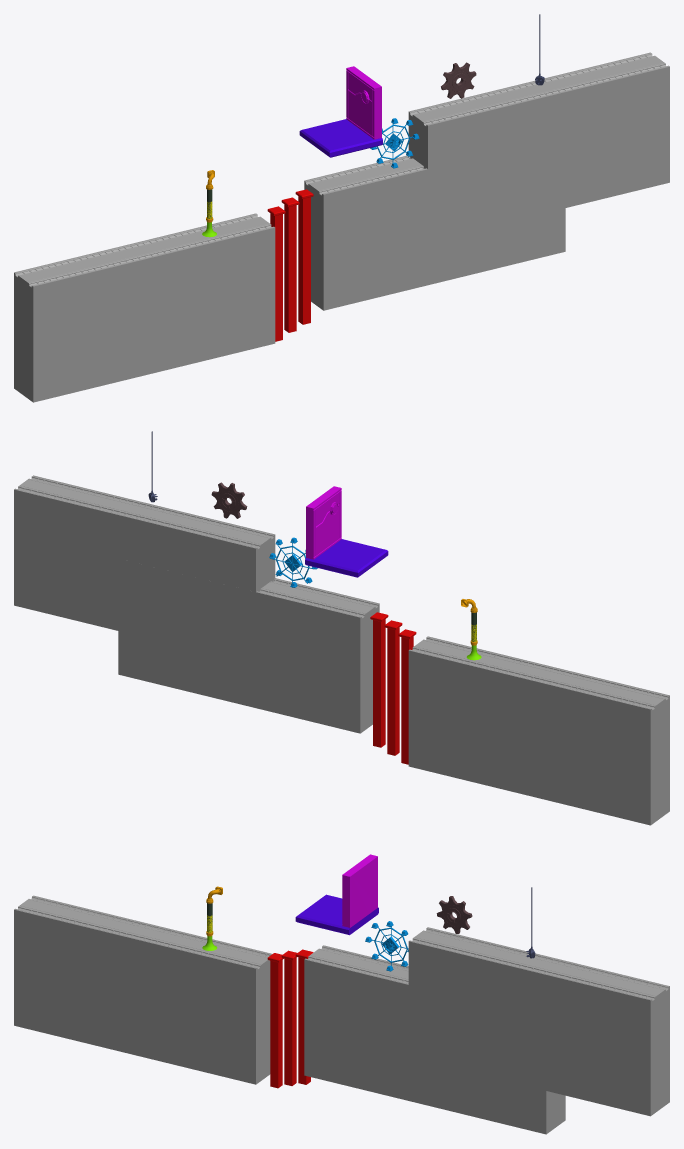
Rendered from GDT_Level.fbx.
3 renders of one model, top to bottom at view 1: azimuth 30°, elevation 25°; view 2: azimuth 150°, elevation 25°; view 3: azimuth 330°, elevation 25°, orthographic.
Visible parts, largest first — view 1: Ground2, Ground, Ground1, Wall:Wall, AirPlatform, Platform2, Platform1, Platform, Gear; view 2: Ground2, Ground, Ground1, Wall:Wall, AirPlatform, Platform2, Platform1, Platform, Gear; view 3: Ground2, Ground1, Ground, Wall:Wall, Platform, Platform1, AirPlatform, Platform2, Gear.
Part boxes in pixels (bbox=[...]): Ground2: bbox=[14, 213, 275, 402]; Ground: bbox=[304, 136, 565, 310]; Ground1: bbox=[408, 52, 669, 240]; Wall:Wall: bbox=[346, 66, 381, 139]; AirPlatform: bbox=[299, 119, 382, 157]; Platform2: bbox=[295, 189, 313, 324]; Platform1: bbox=[281, 197, 299, 332]; Platform: bbox=[267, 206, 285, 341]; Gear: bbox=[441, 62, 476, 98]; Ground2: bbox=[408, 636, 669, 825]; Ground: bbox=[118, 558, 379, 733]; Ground1: bbox=[14, 475, 275, 630]; Wall:Wall: bbox=[306, 486, 341, 559]; AirPlatform: bbox=[305, 539, 388, 577]; Platform2: bbox=[370, 612, 388, 747]; Platform1: bbox=[384, 620, 402, 755]; Platform: bbox=[398, 629, 416, 764]; Gear: bbox=[211, 482, 247, 518]; Ground2: bbox=[14, 895, 272, 1084]; Ground1: bbox=[408, 927, 669, 1116]; Ground: bbox=[304, 945, 565, 1134]; Wall:Wall: bbox=[342, 854, 377, 927]; Platform: bbox=[267, 953, 283, 1088]; Platform1: bbox=[281, 950, 296, 1085]; AirPlatform: bbox=[295, 894, 378, 935]; Platform2: bbox=[295, 949, 313, 1084]; Gear: bbox=[436, 896, 472, 933].
Bounding box in the file's own units: 724 × 287 × 59.29.
